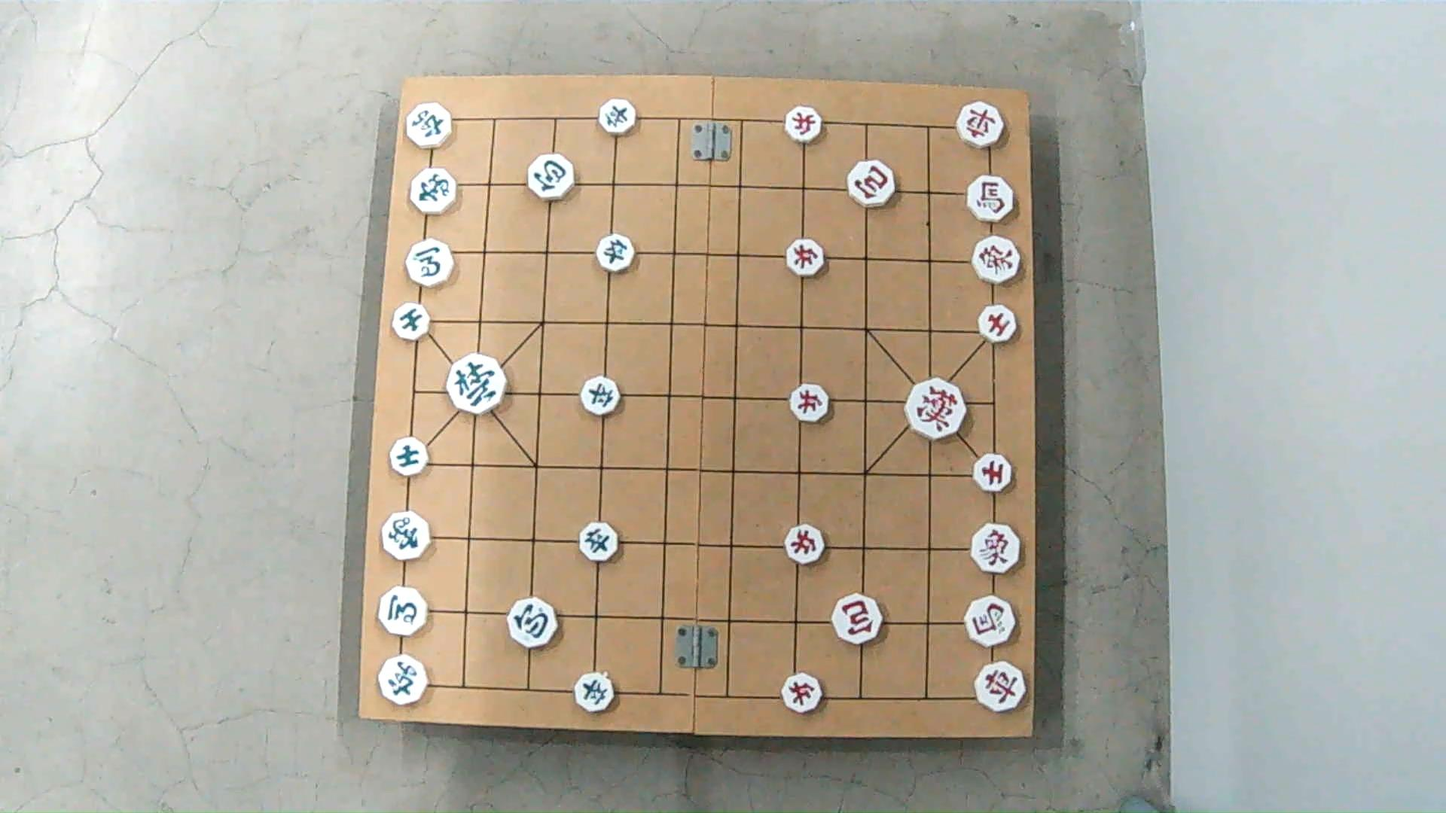cha_green: (380, 657, 434, 705), (404, 106, 455, 150)
cha_red: (972, 663, 1028, 710), (954, 105, 1006, 147)
jol_green: (575, 674, 618, 711), (579, 380, 623, 416), (578, 523, 621, 559), (597, 236, 639, 270), (598, 104, 640, 136)
jol_red: (784, 674, 828, 711), (786, 240, 828, 277), (785, 528, 828, 563), (789, 388, 831, 422), (784, 106, 826, 139)
ma_green: (378, 588, 431, 635), (405, 239, 456, 285)
ma_red: (962, 597, 1019, 648), (967, 177, 1016, 221)
po_green: (506, 600, 558, 645), (529, 158, 581, 199)
po_red: (831, 595, 884, 641), (846, 164, 897, 206)
sa_green: (386, 440, 428, 474), (391, 305, 432, 339)
sa_red: (972, 452, 1011, 489), (976, 304, 1017, 339)
sang_green: (382, 512, 438, 562), (409, 166, 459, 213)
sang_red: (972, 522, 1023, 572), (971, 239, 1023, 283)
wang_green: (447, 356, 506, 410)
wang_red: (907, 383, 972, 437)
